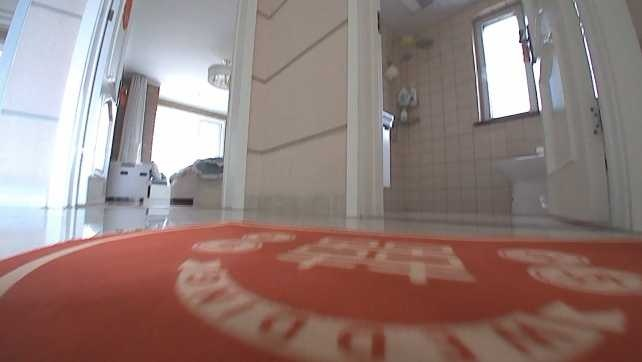blanket: (0, 218, 639, 358)
door_anno: (517, 5, 640, 229)
toilet: (495, 151, 545, 215)
